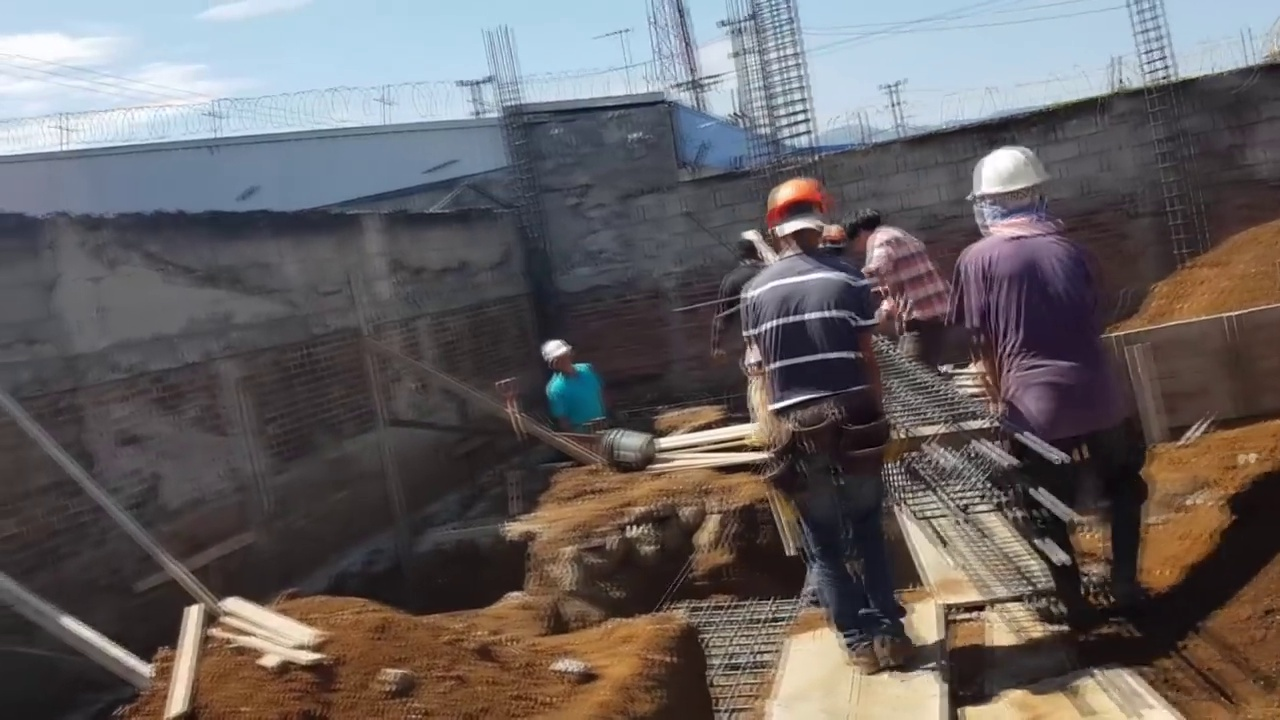helmet: (975, 142, 1056, 205), (762, 177, 828, 234), (541, 343, 569, 364)
helmet-off: (836, 208, 883, 260), (738, 235, 761, 265)
helmet-on: (971, 137, 1058, 242), (763, 178, 831, 262), (542, 338, 575, 379)
person: (948, 157, 1137, 628), (741, 172, 916, 670), (845, 206, 961, 368), (711, 233, 761, 415), (534, 337, 612, 434)
